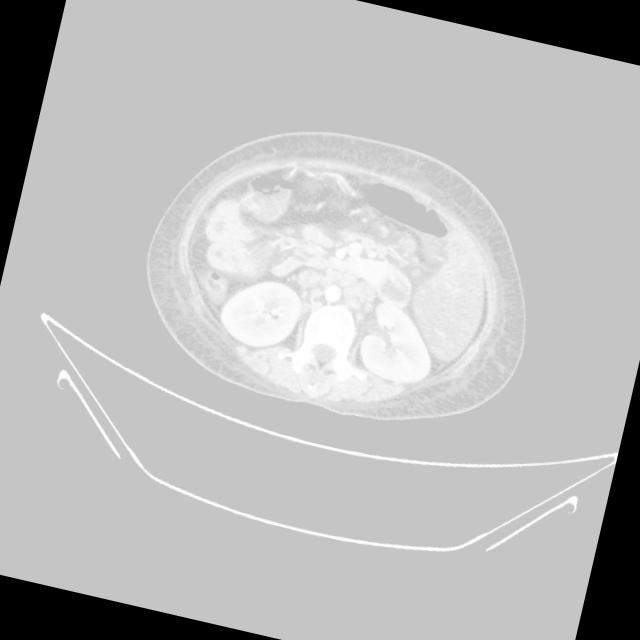NORMAL: (119, 105, 557, 463)
